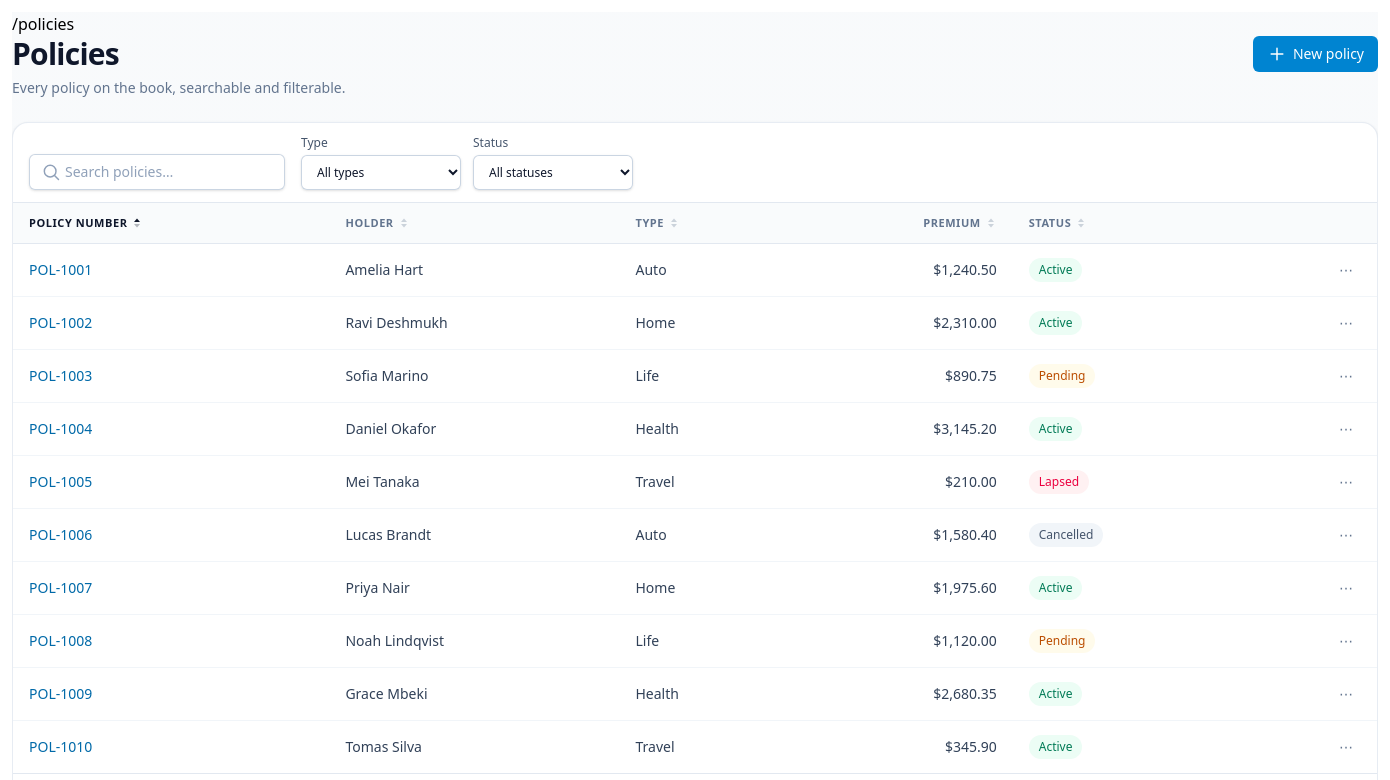
Scenario: PolicyListPage › sorts by premium when the column header is clicked
Check: the link "POL-1001" is shown, box 29,260 -> 92,279
Click the button "Premium". click: (960, 223)
box: 923,215 -> 997,231
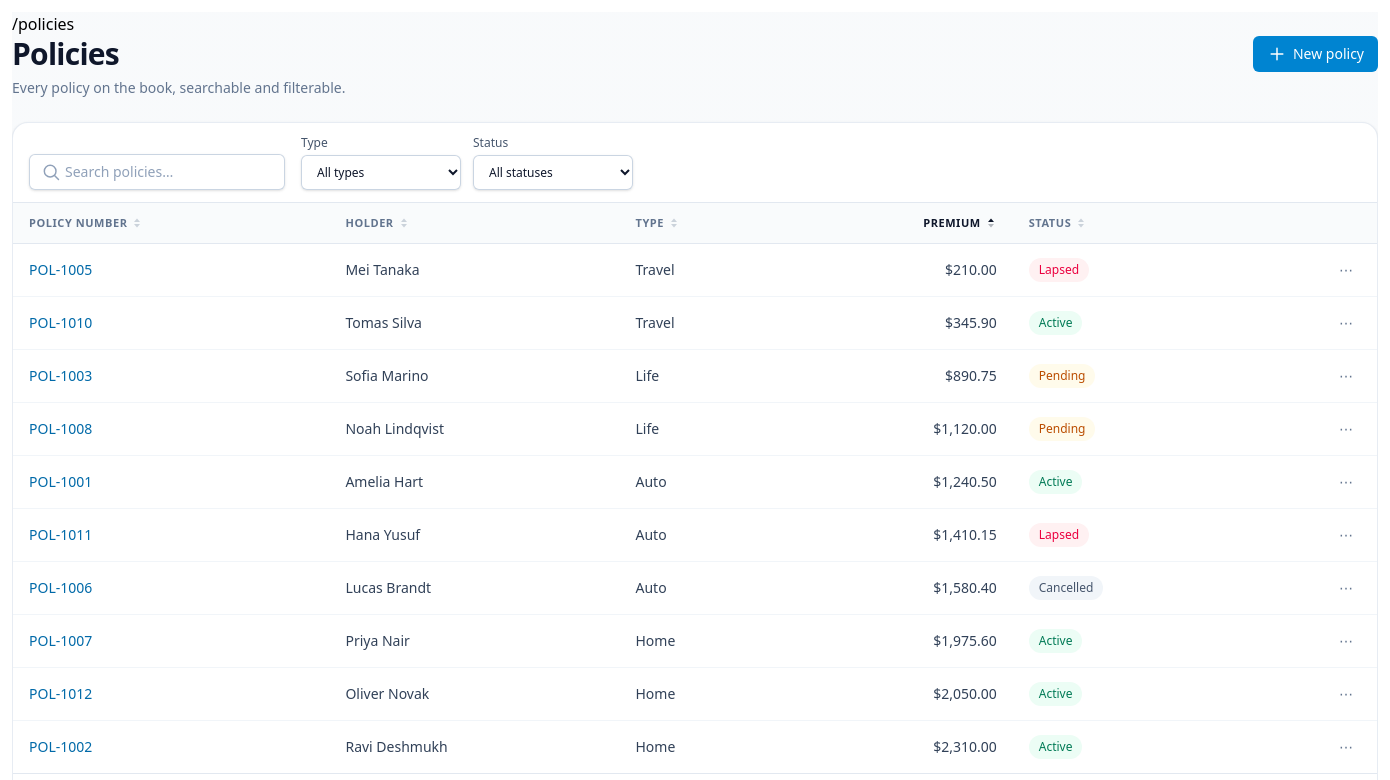
Check: the link "POL-1005" is shown, box 29,260 -> 92,279
